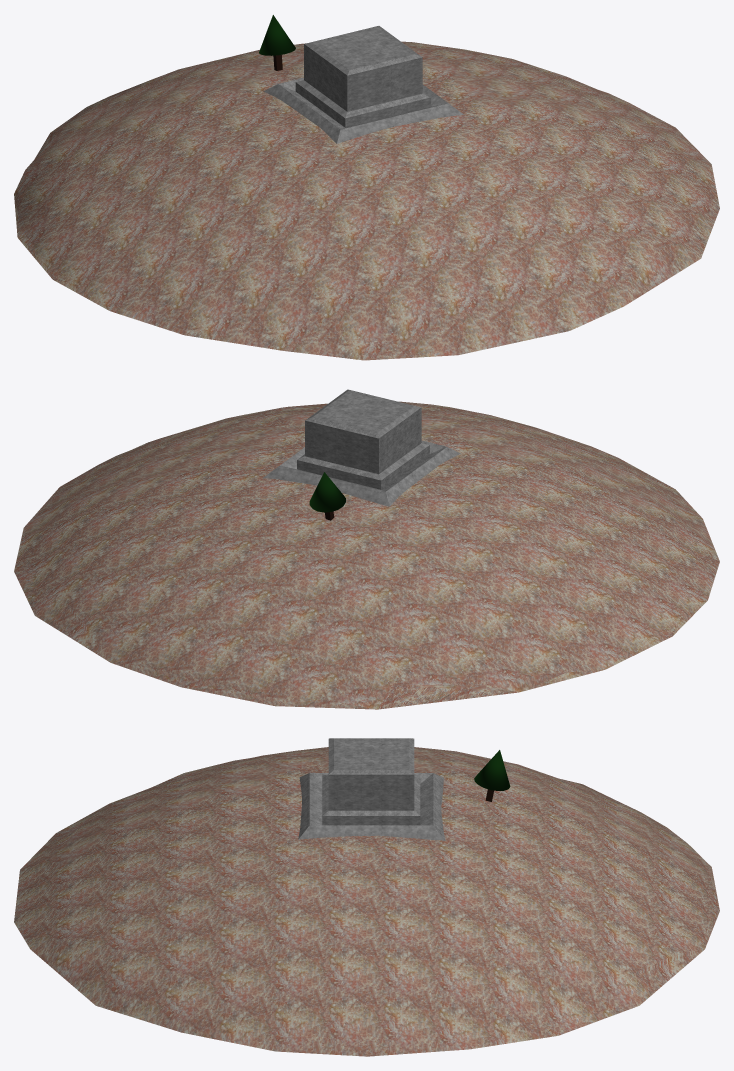
File: island.obj
The picture shows the model from 3 angles, top to bottom: view 1: azimuth 30°, elevation 25°; view 2: azimuth 150°, elevation 25°; view 3: azimuth 270°, elevation 25°; orthographic projection.
Parts seen in each view (by area): view 1: land_Sphere.001, podium_Cube_Cube.001, tree_Cone; view 2: land_Sphere.001, podium_Cube_Cube.001, tree_Cone; view 3: land_Sphere.001, podium_Cube_Cube.001, tree_Cone.
Part boxes in pixels (x1,y1,x2,y2): land_Sphere.001: [14, 41, 719, 360]; podium_Cube_Cube.001: [263, 26, 463, 143]; tree_Cone: [259, 15, 295, 55]; land_Sphere.001: [14, 401, 719, 709]; podium_Cube_Cube.001: [263, 389, 460, 506]; tree_Cone: [309, 472, 345, 512]; land_Sphere.001: [14, 747, 719, 1056]; podium_Cube_Cube.001: [298, 738, 445, 840]; tree_Cone: [474, 750, 510, 790].
Bounding box in the file's own units: 53.37 × 12.85 × 52.87.
Materials: 4 (2 with a texture image).
